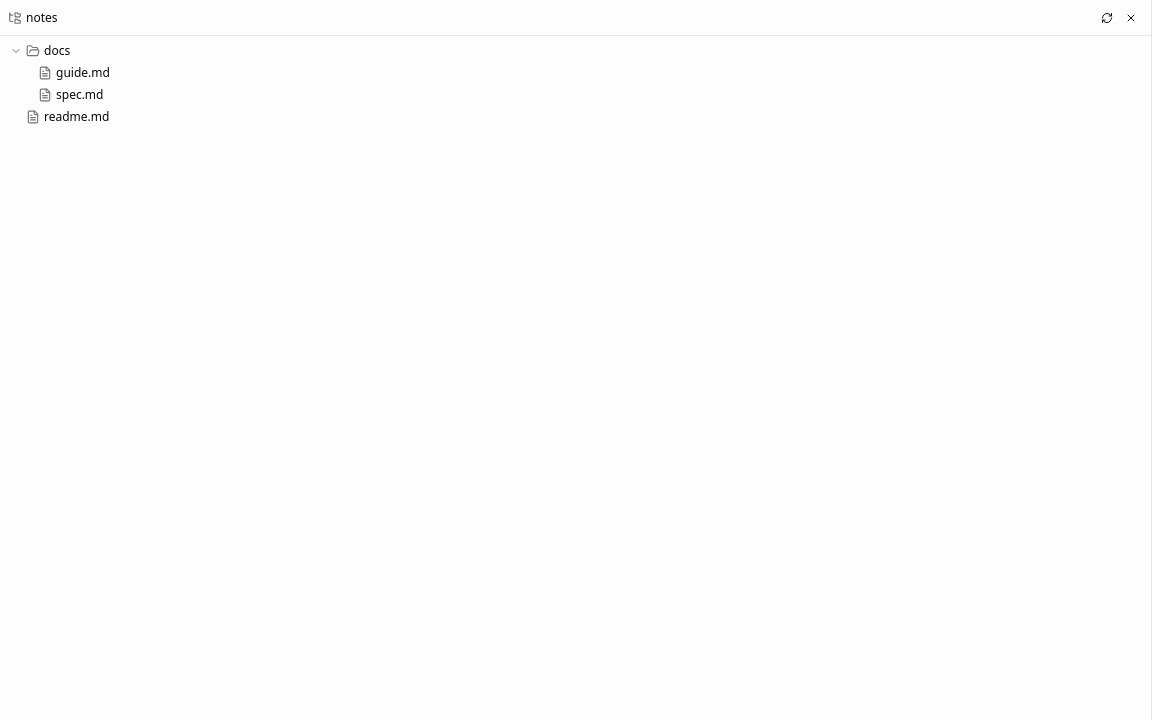
Scenario: FileTree › 点击目录可以折叠与展开
The width and height of the screenshot is (1152, 720).
Click the list item "docs": (40, 50) [10,42,70,59]
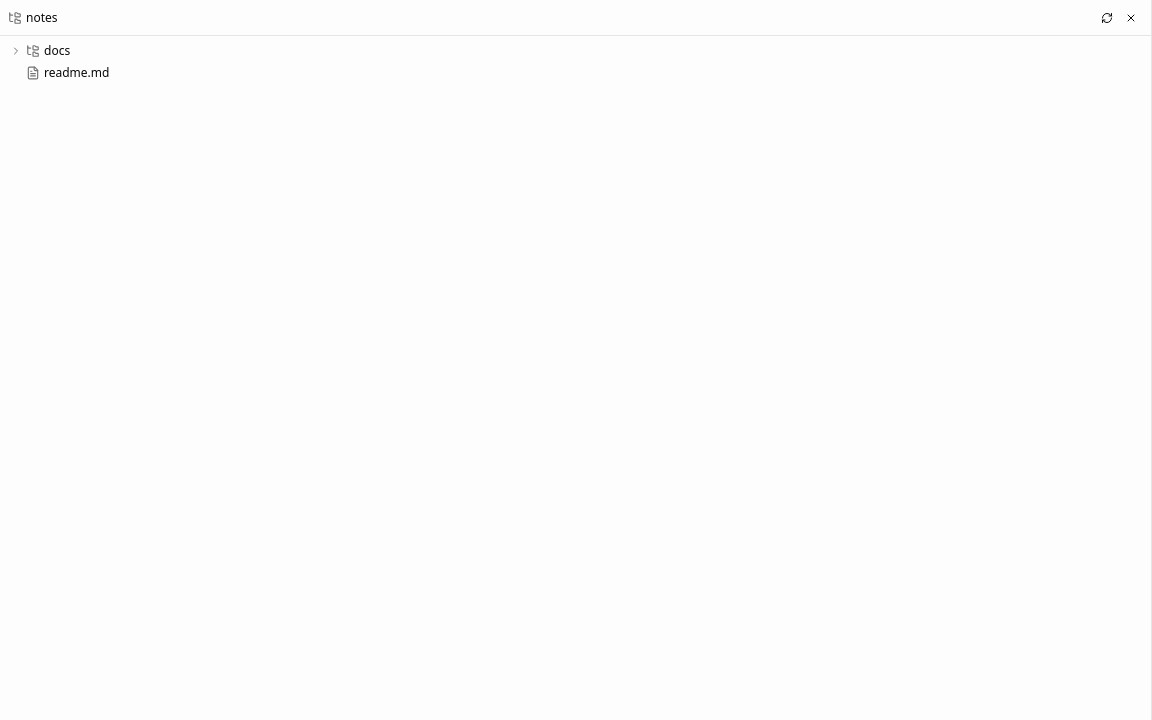
Expected: the text "guide.md" is gone
Click the list item "docs": (40, 50) [10,42,70,59]
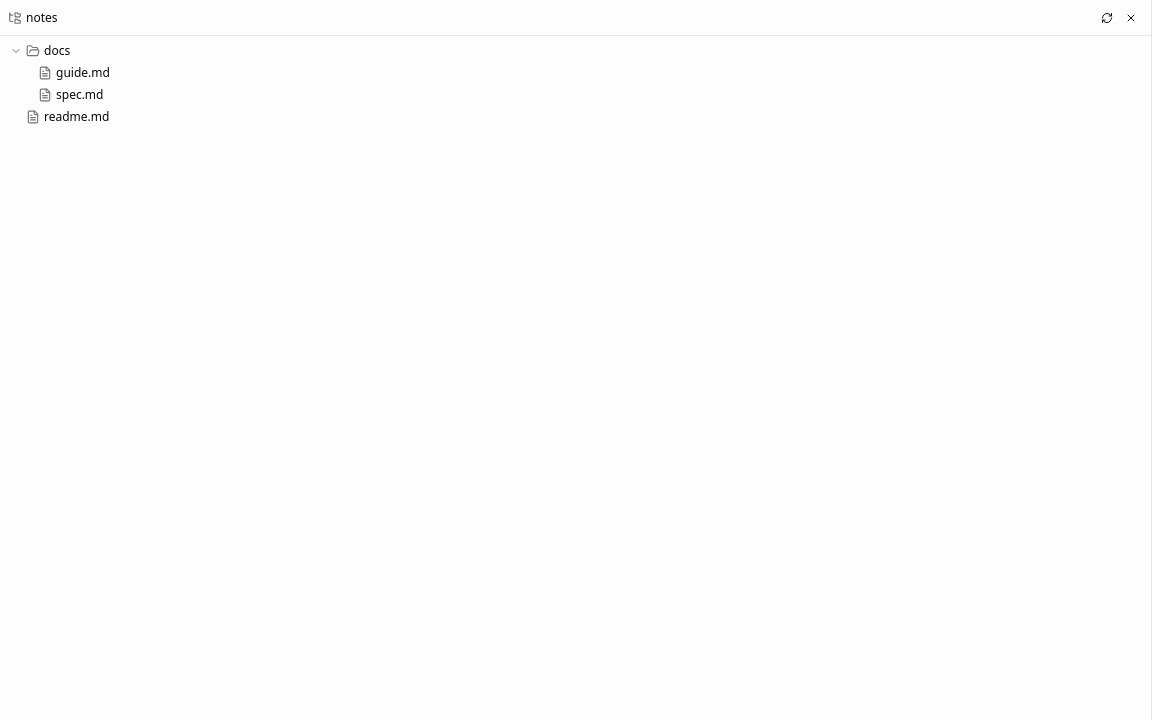
Expected: the text "guide.md" is shown, [56,65,110,81]
